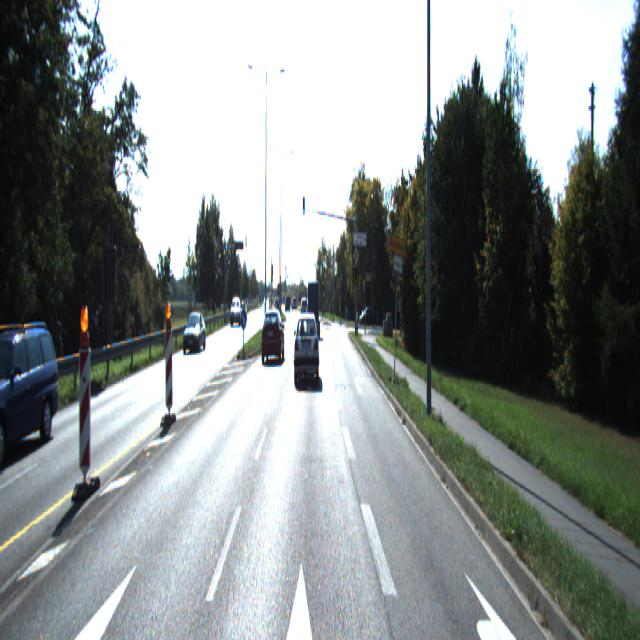Car: (0, 317, 65, 470), (294, 316, 320, 384), (261, 311, 286, 368), (183, 313, 207, 354), (308, 282, 320, 338)
